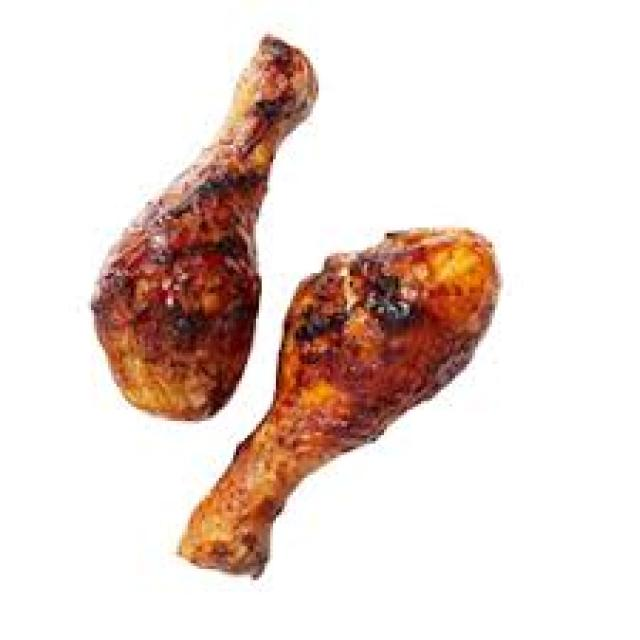Frango: (93, 26, 500, 580)
